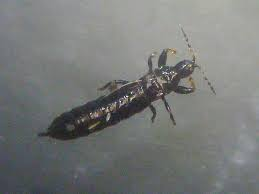Phlaeothripidae: (35, 22, 218, 143)
